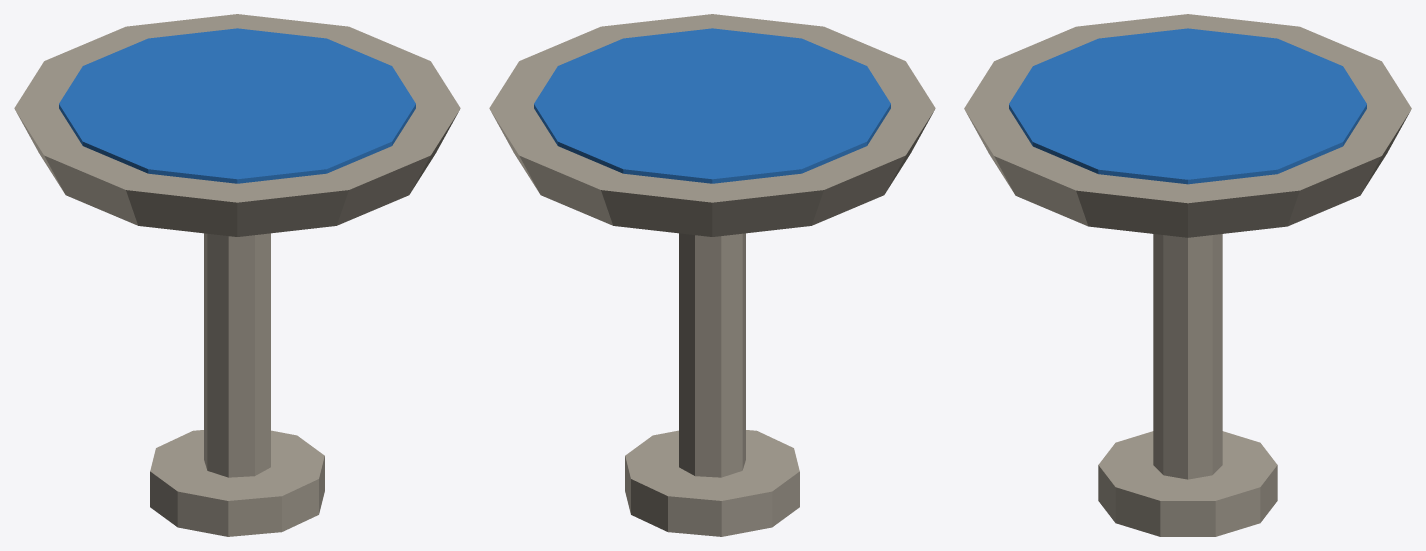
The model's file is patio_bird_bath.glb.
3 views of the same model, side by side, from view 1: azimuth 30°, elevation 25°; view 2: azimuth 150°, elevation 25°; view 3: azimuth 270°, elevation 25° (orthographic).
Visible parts, largest first — view 1: bird_bath; view 2: bird_bath; view 3: bird_bath.
Boxes of the visible parts, <box> form: bird_bath: <box>14,14,460,536</box>; bird_bath: <box>489,14,935,536</box>; bird_bath: <box>964,14,1411,536</box>.
Size of the model in its own units: 0.9 by 0.88 by 0.9.
